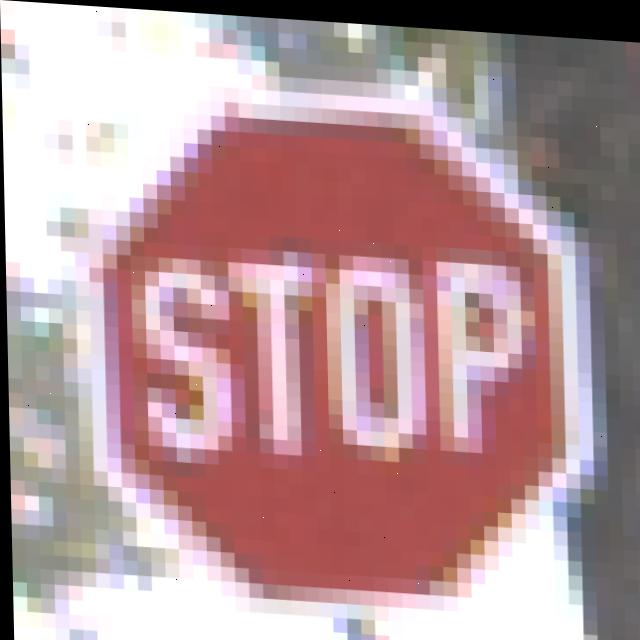stop: (87, 96, 590, 602)
